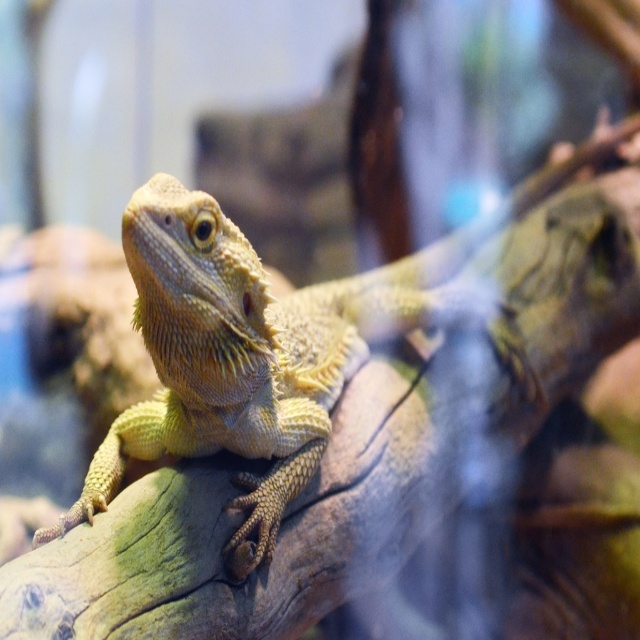Lizard: (35, 154, 592, 619)
